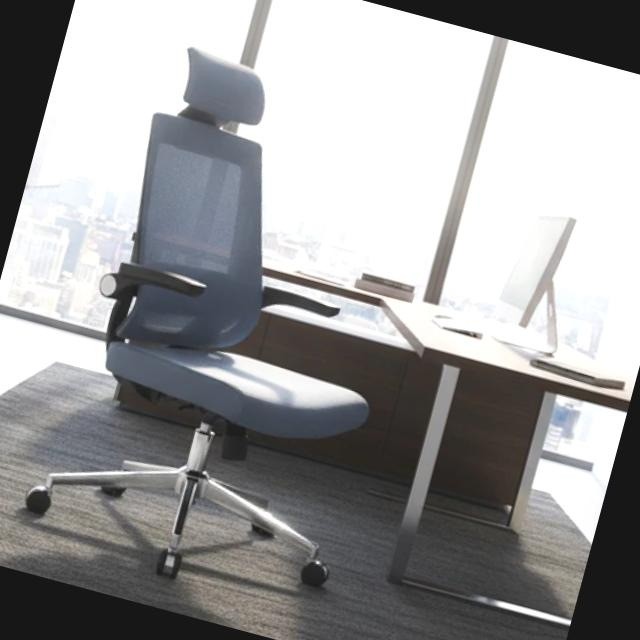Chair: (0, 31, 376, 604)
